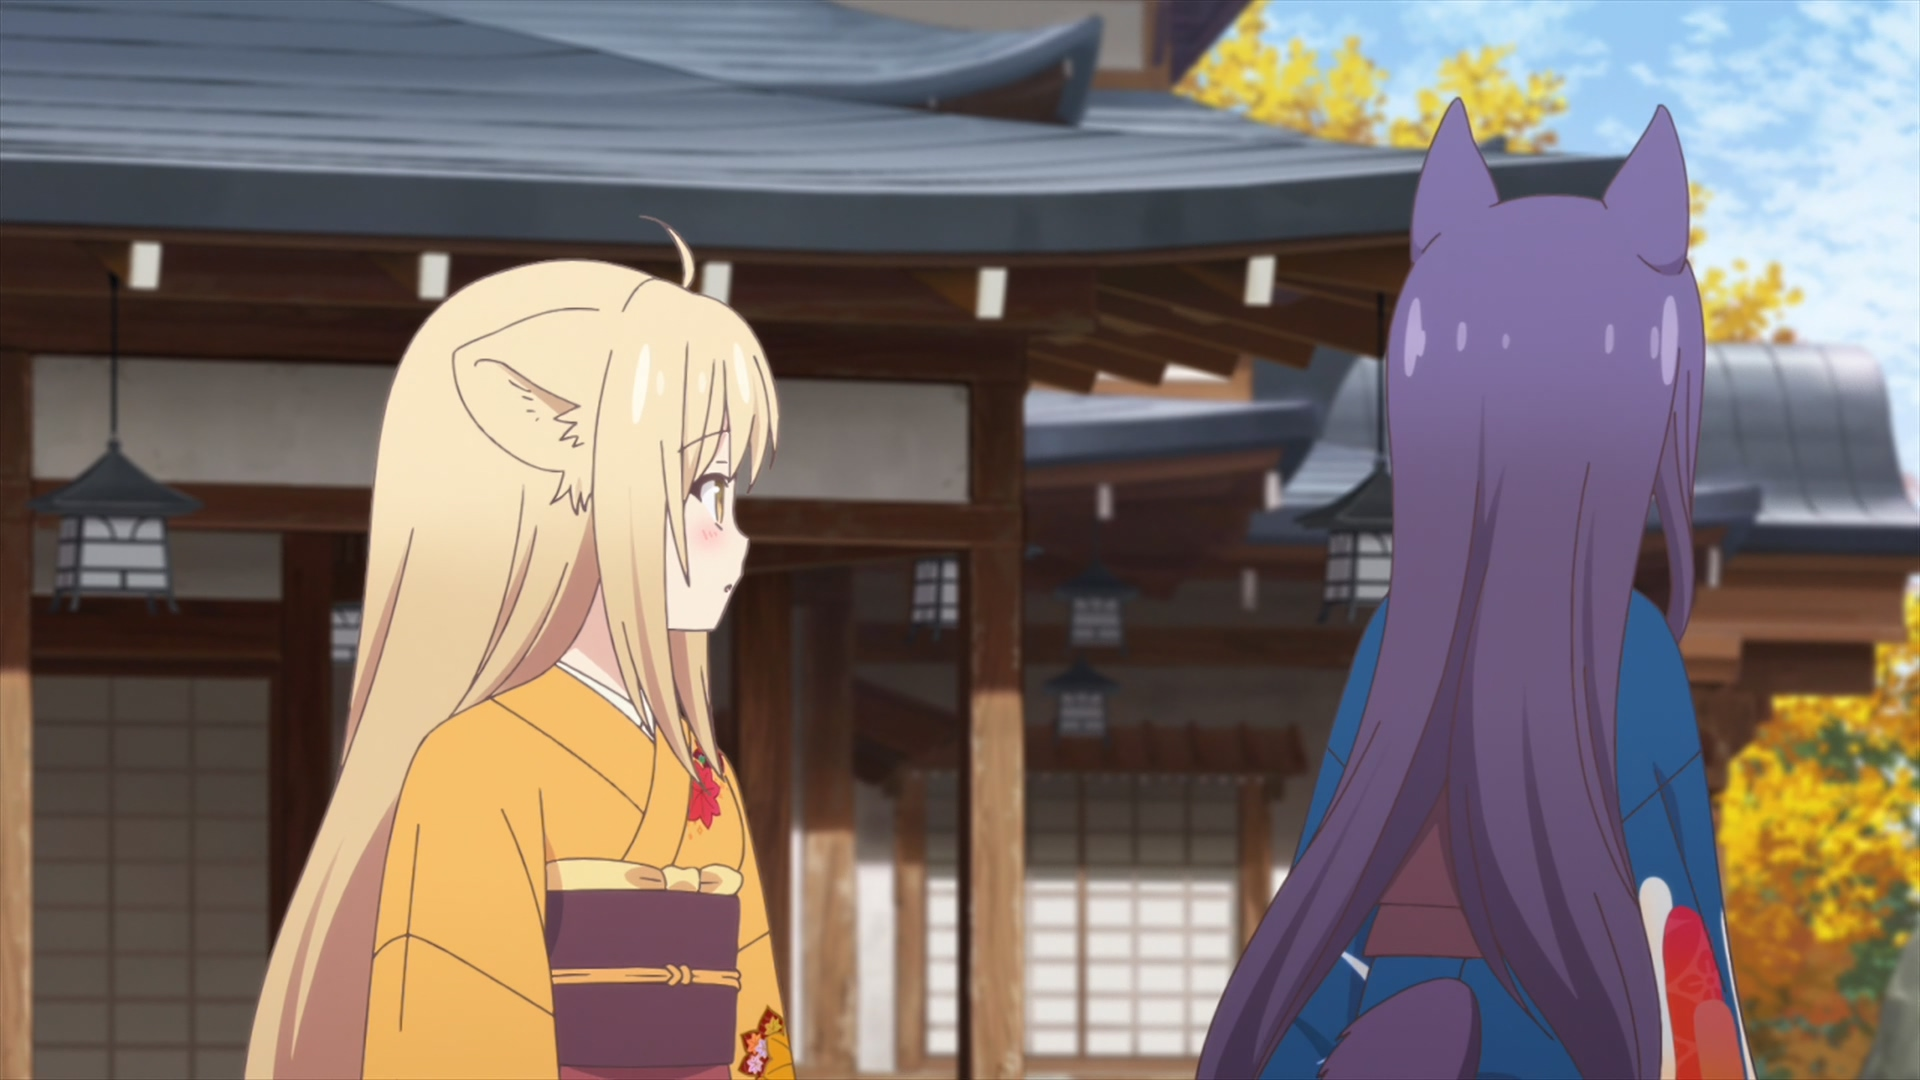柚: (245, 215, 796, 1080)
皋: (1193, 98, 1756, 1080)
